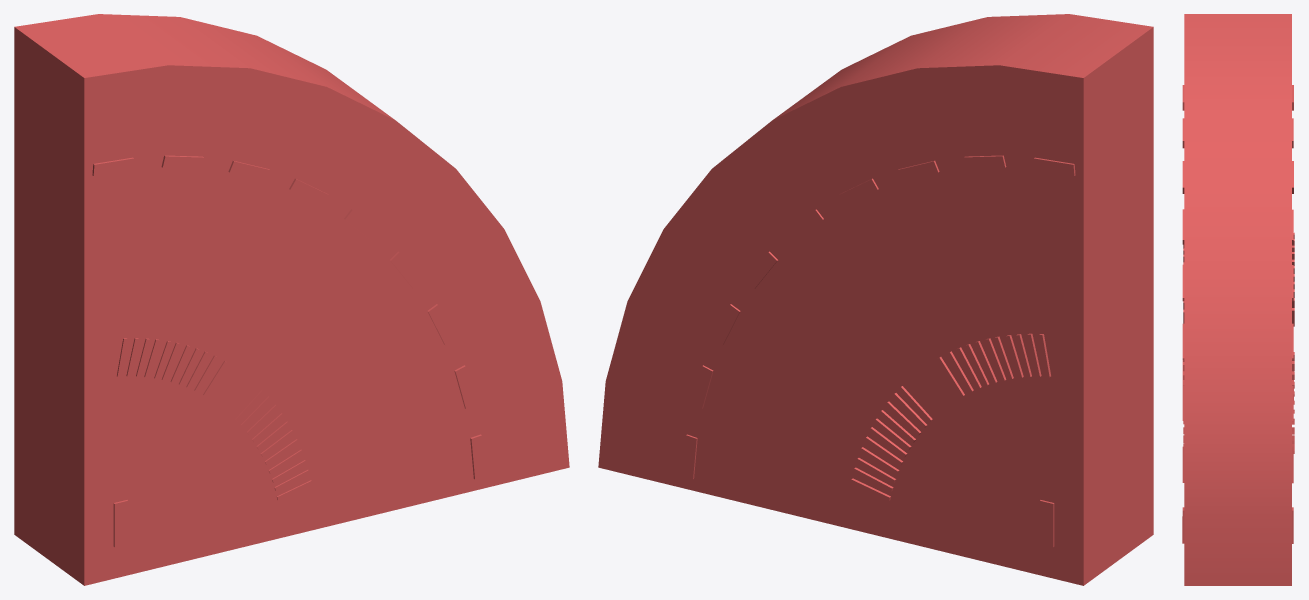
File: Curve4Color.fbx
The picture shows the model from 3 angles, left to right: view 1: azimuth 30°, elevation 25°; view 2: azimuth 150°, elevation 25°; view 3: azimuth 270°, elevation 25°; orthographic projection. The views are drawn at different scales.
Visible parts, largest first — view 1: polySurface482; view 2: polySurface482; view 3: polySurface482.
Part boxes in pixels (<box>): polySurface482: <box>14,14,569,585</box>; polySurface482: <box>598,14,1153,585</box>; polySurface482: <box>1182,14,1294,585</box>.
Bounding box in the file's own units: 3.95 × 3.95 × 1.03.
